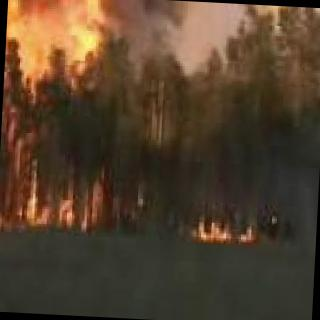fire: (0, 0, 120, 232), (199, 222, 257, 240)
